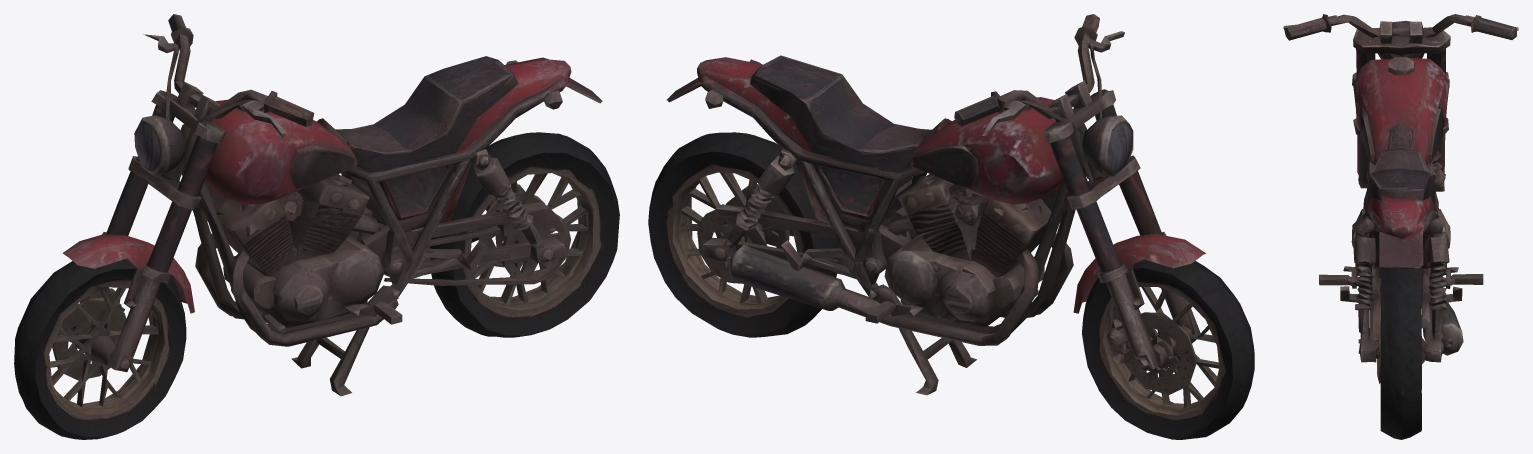
File: motorcycle.glb
The picture shows the model from 3 angles, left to right: view 1: azimuth 30°, elevation 25°; view 2: azimuth 150°, elevation 25°; view 3: azimuth 270°, elevation 25°; orthographic projection. The views are drawn at different scales.
Visible parts, largest first — view 1: body, wheel_2, wheel_1; view 2: body, wheel_2, wheel_1; view 3: body, wheel_2.
Boxes of the visible parts, bbox=[...] form: body: bbox=[14, 14, 617, 409]; wheel_2: bbox=[430, 144, 619, 337]; wheel_1: bbox=[14, 271, 191, 439]; body: bbox=[652, 14, 1254, 409]; wheel_2: bbox=[648, 152, 839, 337]; wheel_1: bbox=[1077, 271, 1254, 439]; body: bbox=[1283, 14, 1518, 429]; wheel_2: bbox=[1376, 266, 1426, 439].
Bounding box in the file's own units: 2.1 × 1.16 × 0.8395.
Materials: 2 (2 with a texture image).
